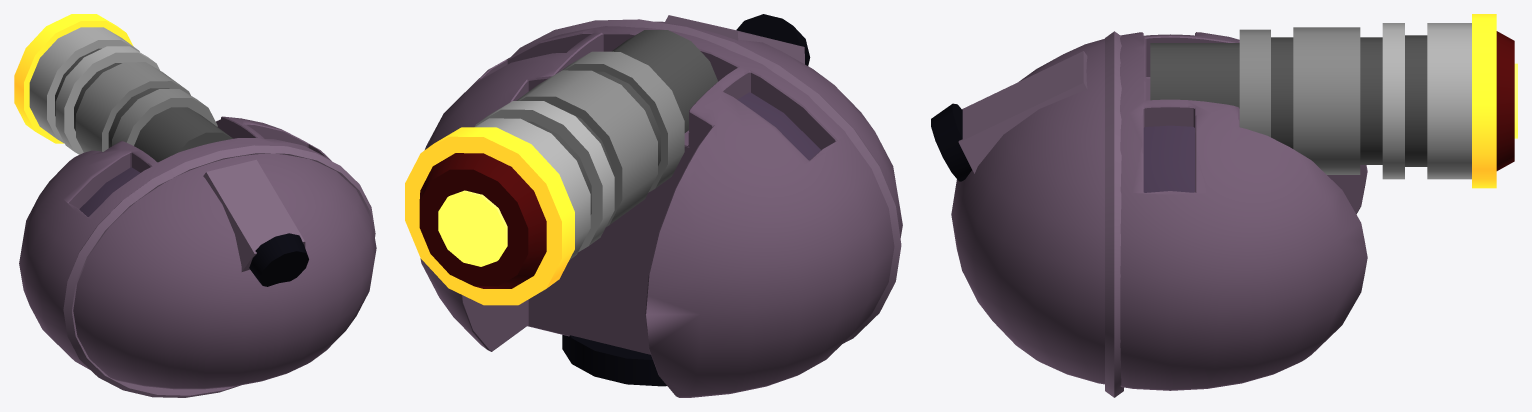
File: beno-wallop-beam.glb
3 renders of one model, left to right at view 1: azimuth 30°, elevation 25°; view 2: azimuth 150°, elevation 25°; view 3: azimuth 270°, elevation 25°, orthographic. The views are drawn at different scales.
Visible parts, largest first — view 1: sidekick-beno-wallop-beam-pod, sidekick-beno-wallop-beam-parts, sidekick-beno-wallop-beam-core; view 2: sidekick-beno-wallop-beam-pod, sidekick-beno-wallop-beam-parts, sidekick-beno-wallop-beam-core; view 3: sidekick-beno-wallop-beam-pod, sidekick-beno-wallop-beam-parts, sidekick-beno-wallop-beam-core.
Part boxes in pixels (left/top/right/bottom): sidekick-beno-wallop-beam-pod: left=19, top=116, right=376, bottom=389; sidekick-beno-wallop-beam-parts: left=14, top=14, right=375, bottom=397; sidekick-beno-wallop-beam-core: left=79, top=167, right=140, bottom=216; sidekick-beno-wallop-beam-pod: left=420, top=21, right=902, bottom=397; sidekick-beno-wallop-beam-parts: left=405, top=14, right=901, bottom=386; sidekick-beno-wallop-beam-core: left=684, top=92, right=820, bottom=160; sidekick-beno-wallop-beam-pod: left=951, top=32, right=1367, bottom=390; sidekick-beno-wallop-beam-parts: left=931, top=14, right=1517, bottom=397; sidekick-beno-wallop-beam-core: left=1143, top=125, right=1194, bottom=192.
Size of the model in its own units: 1.75 by 1.43 by 2.19.
